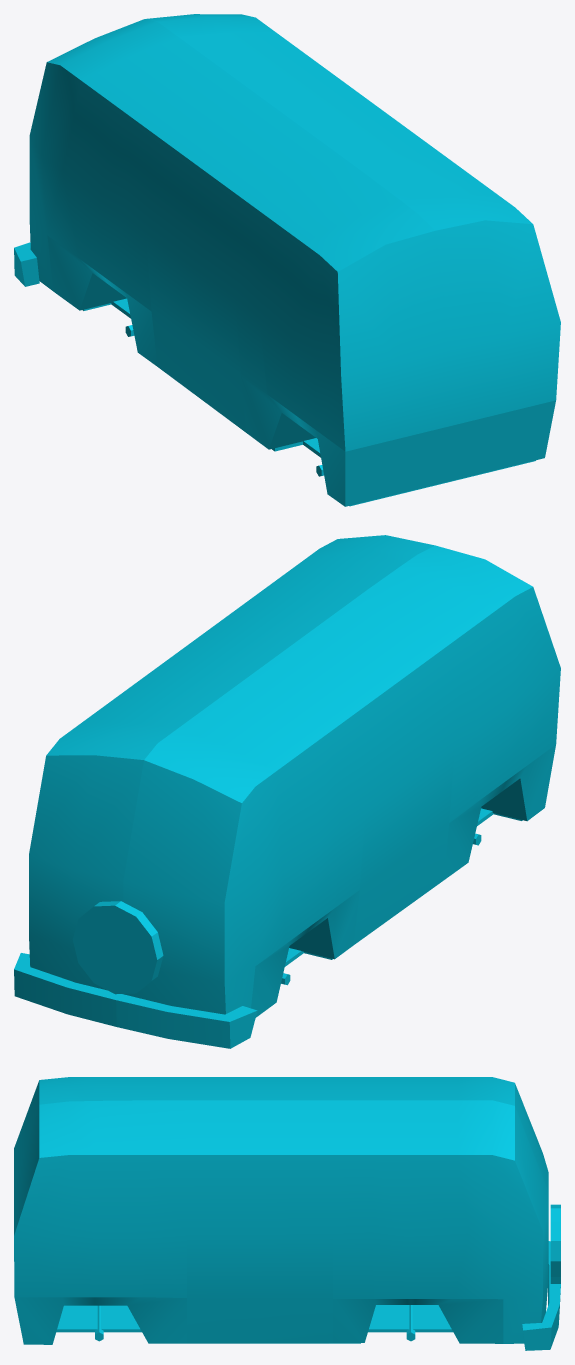
File: Car_Van_Body.fbx
3 views of the same model, one above another, from view 1: azimuth 30°, elevation 25°; view 2: azimuth 150°, elevation 25°; view 3: azimuth 270°, elevation 25° (orthographic). The views are drawn at different scales.
Visible parts, largest first — view 1: Car_Van_Body; view 2: Car_Van_Body; view 3: Car_Van_Body.
Part boxes in pixels (x1,y1,x2,y2): Car_Van_Body: (14,14,560,506); Car_Van_Body: (14,535,560,1048); Car_Van_Body: (14,1077,560,1350).
Bounding box in the file's own units: 113 × 118 × 277.
